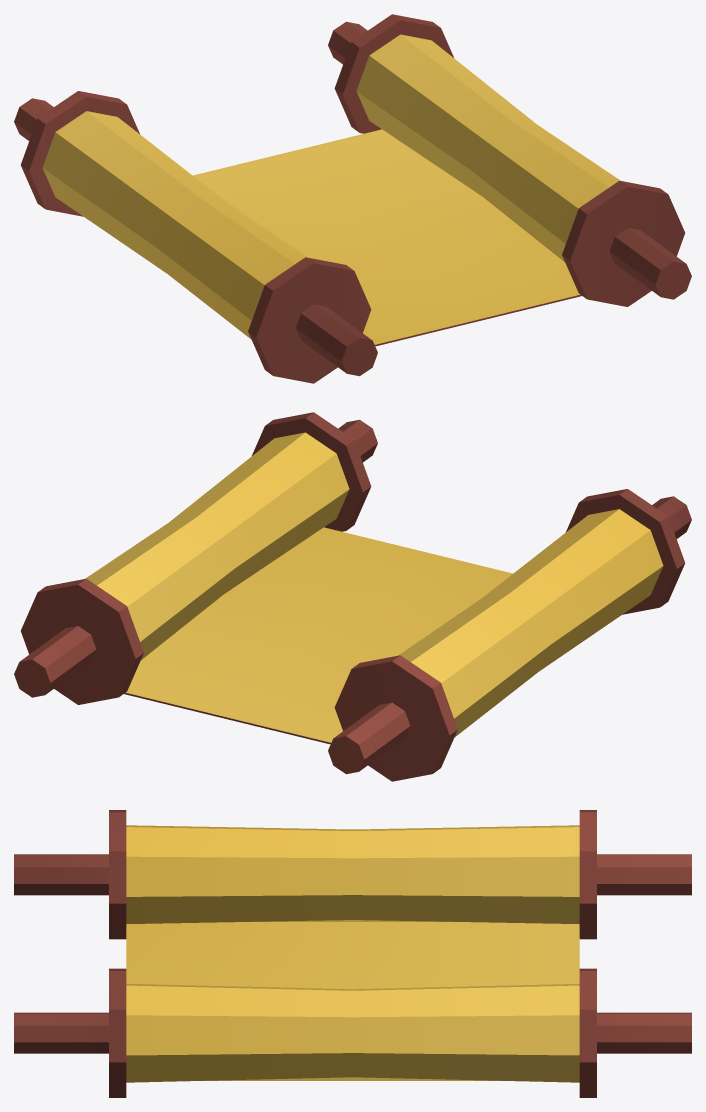
File: Scroll_open.fbx
3 views of the same model, one above another, from view 1: azimuth 30°, elevation 25°; view 2: azimuth 150°, elevation 25°; view 3: azimuth 270°, elevation 25° (orthographic). The views are drawn at different scales.
Parts seen in each view (by area): view 1: Scroll_open; view 2: Scroll_open; view 3: Scroll_open.
Part boxes in pixels (x1,y1,x2,y2): Scroll_open: [14, 14, 691, 383]; Scroll_open: [14, 412, 691, 781]; Scroll_open: [14, 810, 691, 1097].
Bounding box in the file's own units: 0.378 × 0.1014 × 0.5.
Materials: 1 (1 with a texture image).
